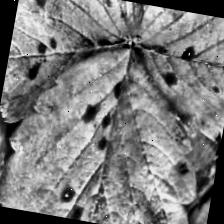Leaf Spot: (0, 23, 220, 224), (0, 0, 141, 142), (99, 0, 224, 154)
